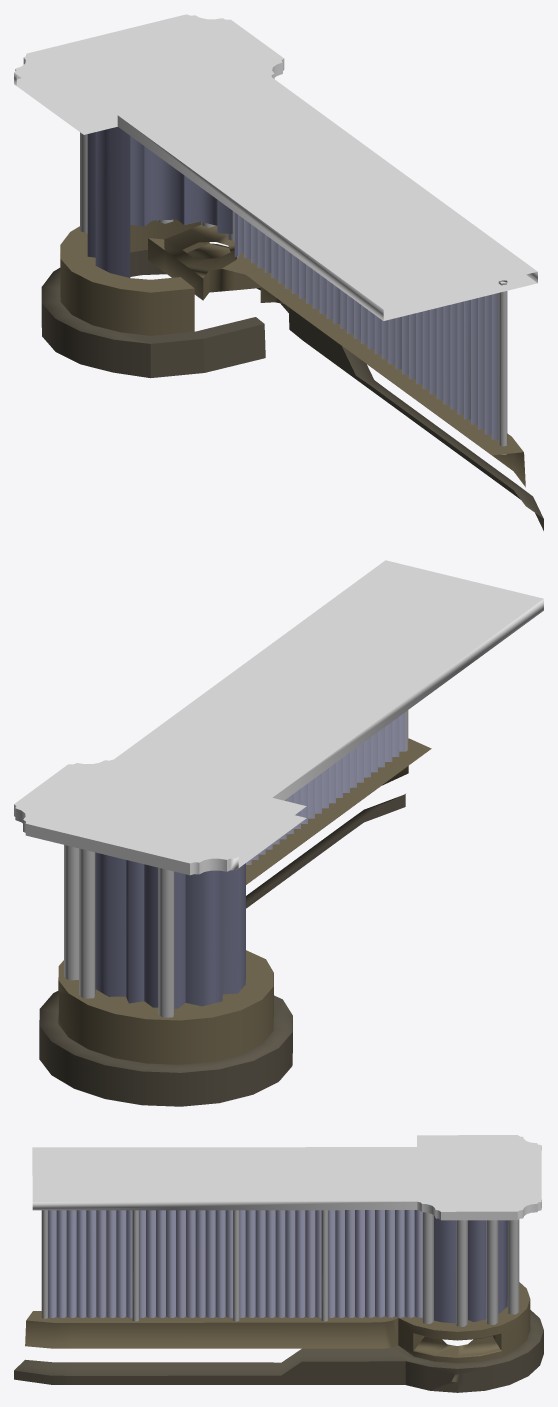
The model's file is ACT3_Engine.fbx.
3 renders of one model, top to bottom at view 1: azimuth 30°, elevation 25°; view 2: azimuth 150°, elevation 25°; view 3: azimuth 270°, elevation 25°, orthographic. The views are drawn at different scales.
Visible parts, largest first — view 1: Engine_Top, Engine_BaseBalkonMid, Engine_BaseInnerCils, Engine_BaseBalkonFoot, Engine_FrontInnerCils, pillar_small13, pillar_large2; view 2: Engine_Top, Engine_FrontInnerCils, Engine_BaseBalkonMid, Engine_BaseBalkonFoot, Engine_BaseInnerCils, pillar_large, pillar_large2, pillar_large1; view 3: Engine_BaseInnerCils, Engine_Top, Engine_BaseBalkonMid, Engine_BaseBalkonFoot, Engine_FrontInnerCils, pillar_large1, pillar_large5, pillar_large4, pillar_large, pillar_small10, pillar_small11, pillar_small12 (+1 smaller).
Boxes of the visible parts, x1,y1,x2,y2 form: Engine_Top: (14, 14, 537, 320); Engine_BaseBalkonMid: (60, 219, 525, 487); Engine_BaseInnerCils: (237, 215, 498, 439); Engine_BaseBalkonFoot: (41, 243, 543, 530); Engine_FrontInnerCils: (87, 126, 237, 277); pillar_small13: (498, 280, 507, 454); pillar_large2: (80, 132, 87, 233); Engine_Top: (14, 560, 543, 875); Engine_FrontInnerCils: (95, 852, 245, 1008); Engine_BaseBalkonMid: (58, 738, 431, 1064); Engine_BaseBalkonFoot: (39, 794, 405, 1106); Engine_BaseInnerCils: (246, 711, 406, 864); pillar_large: (79, 848, 95, 998); pillar_large2: (158, 867, 174, 1017); pillar_large1: (64, 845, 78, 980); Engine_BaseInnerCils: (48, 1210, 422, 1317); Engine_Top: (32, 1135, 541, 1220); Engine_BaseBalkonMid: (25, 1282, 530, 1363); Engine_BaseBalkonFoot: (14, 1310, 543, 1392); Engine_FrontInnerCils: (434, 1216, 507, 1323); pillar_large1: (486, 1220, 498, 1324); pillar_large5: (422, 1212, 433, 1323); pillar_large4: (456, 1220, 467, 1326); pillar_large: (508, 1219, 519, 1314); pillar_small10: (321, 1210, 327, 1321); pillar_small11: (233, 1210, 239, 1321); pillar_small12: (132, 1210, 138, 1321).
Size of the model in its own units: 7.5 by 8.1 by 21.59.
